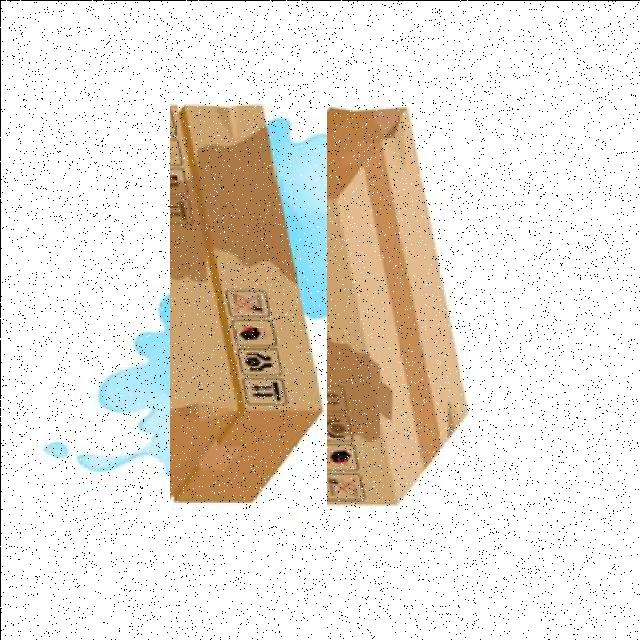defect: (256, 101, 467, 508), (169, 97, 326, 511)
